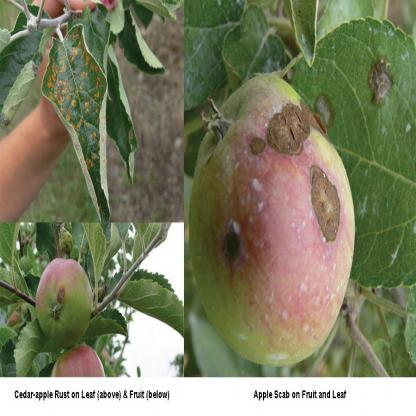Apple rust leaf: (40, 35, 123, 222)
